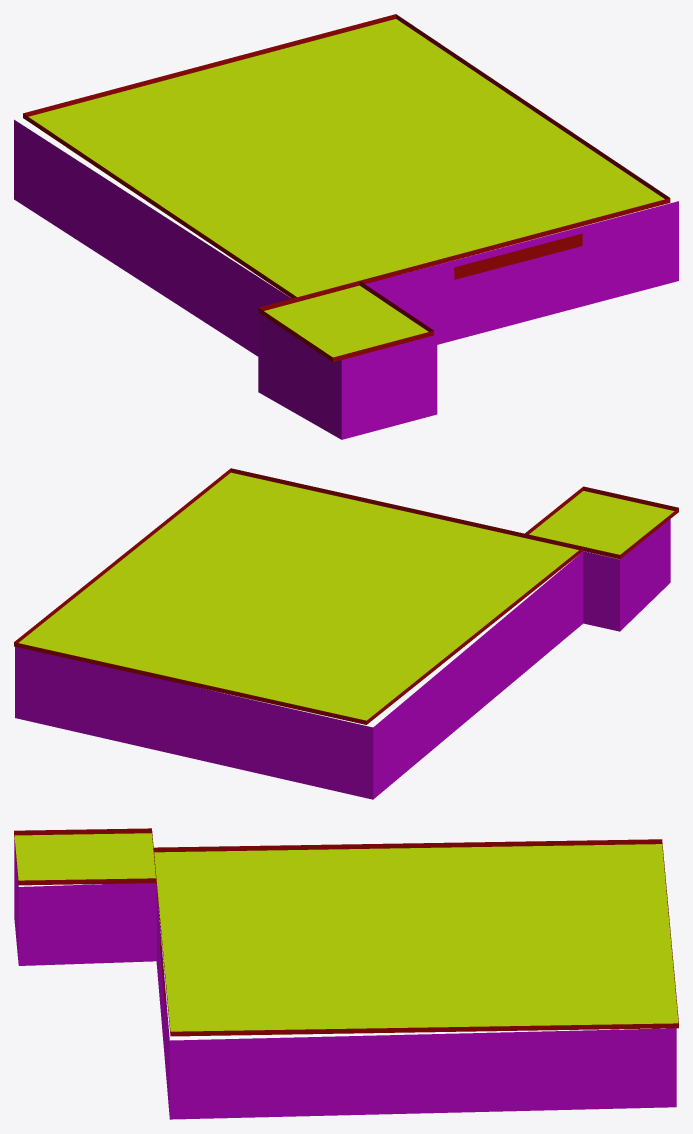
Rendered from mey_29.glb.
3 views of the same model, one above another, from view 1: azimuth 30°, elevation 25°; view 2: azimuth 150°, elevation 25°; view 3: azimuth 270°, elevation 25° (orthographic). The views are drawn at different scales.
Visible parts, largest first — view 1: mey_29; view 2: mey_29; view 3: mey_29.
Part boxes in pixels (x1,y1,x2,y2): mey_29: [14, 14, 678, 439]; mey_29: [14, 468, 678, 799]; mey_29: [14, 828, 678, 1119].
Size of the model in its own units: 32.5 by 6.13 by 44.07.
